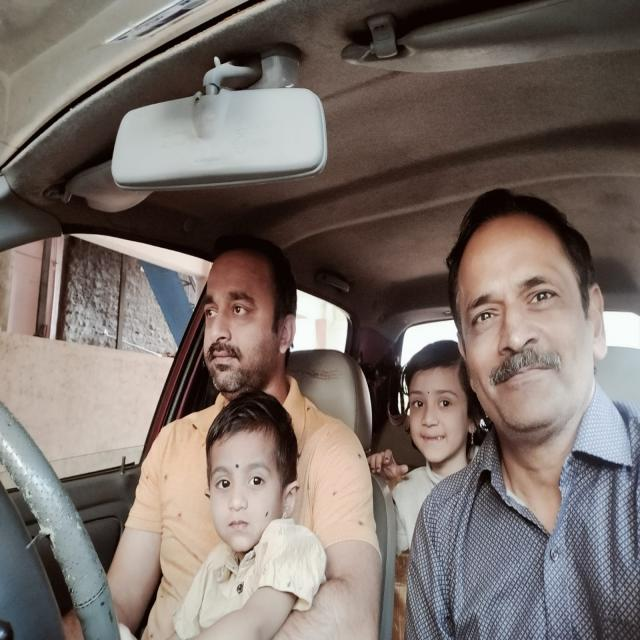child: (203, 389, 301, 562)
person: (451, 181, 612, 464), (198, 234, 302, 403), (399, 334, 481, 486)
